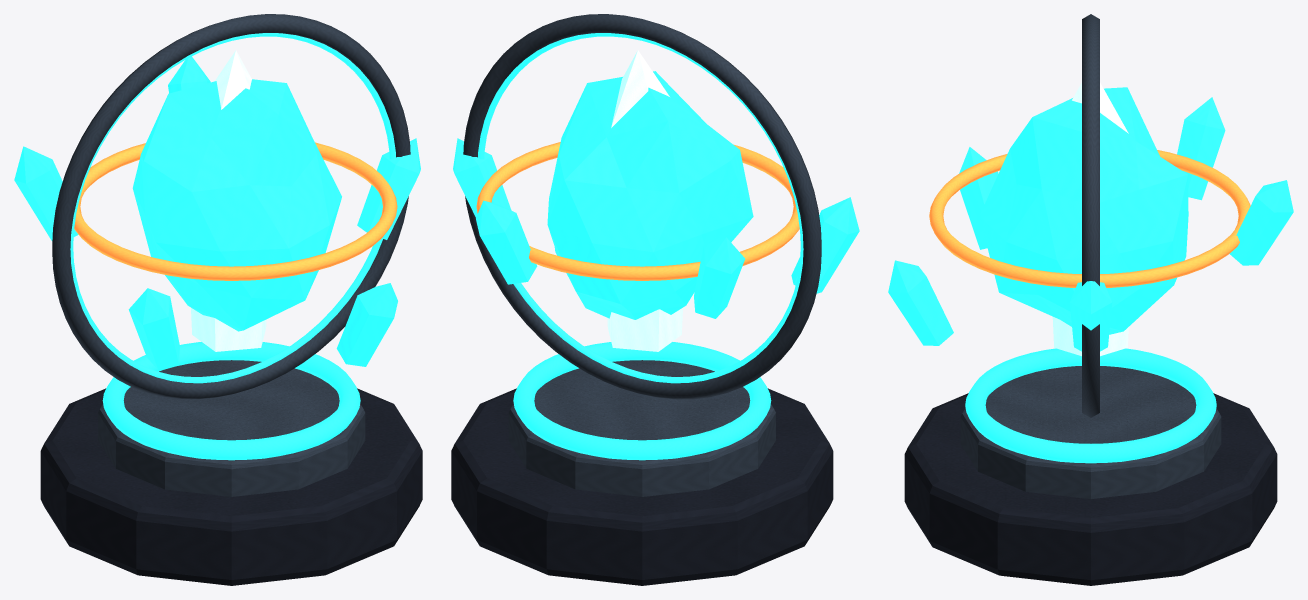
The model's file is StarCore.fbx.
3 renders of one model, left to right at view 1: azimuth 30°, elevation 25°; view 2: azimuth 150°, elevation 25°; view 3: azimuth 270°, elevation 25°, orthographic. The views are drawn at different scales.
Parts seen in each view (by area): view 1: SM_StarCore; view 2: SM_StarCore; view 3: SM_StarCore.
Part boxes in pixels (box(x1,y1,x2,y2)): SM_StarCore: box(14, 14, 422, 585); SM_StarCore: box(451, 14, 859, 585); SM_StarCore: box(888, 14, 1293, 585).
Bounding box in the file's own units: 223 × 218 × 284.
Materials: 1 (1 with a texture image).
